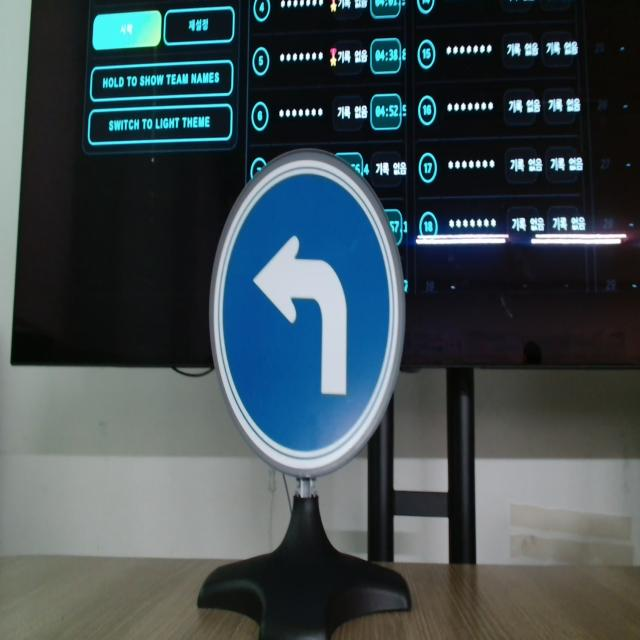left_direction: (208, 133, 428, 508)
